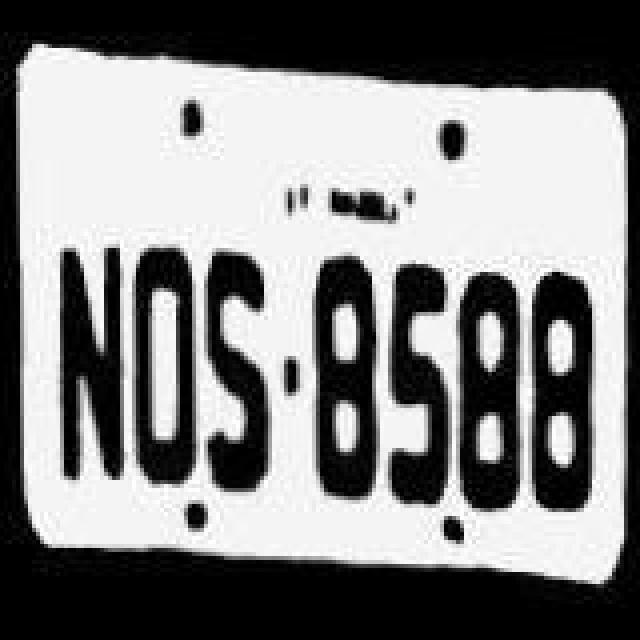5: (378, 254, 454, 510)
8: (296, 246, 384, 502), (524, 260, 604, 516), (450, 266, 526, 514)
N: (42, 244, 126, 492)
O: (126, 246, 202, 490)
S: (196, 248, 284, 500)
